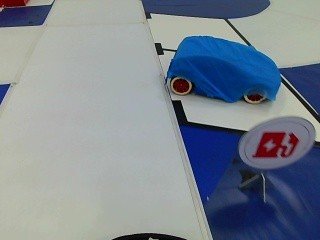battery: (249, 124, 305, 166)
car: (159, 36, 284, 105)
